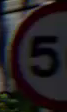Speed limit: (8, 6, 65, 99)
